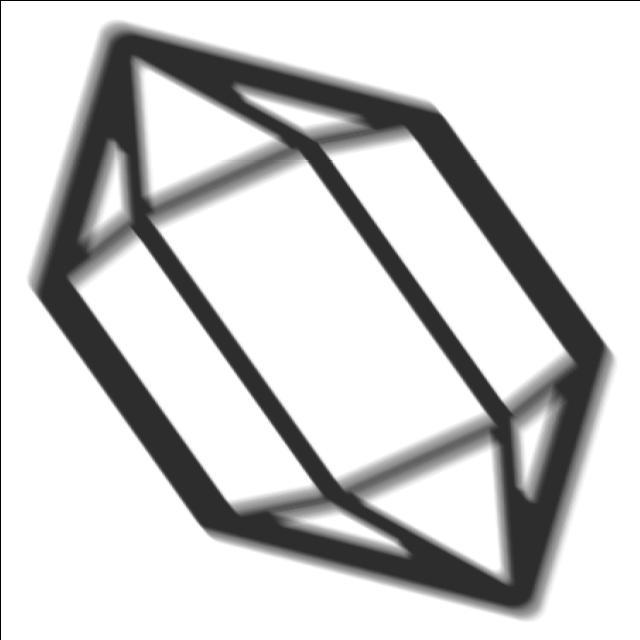crystal: (17, 15, 629, 626)
